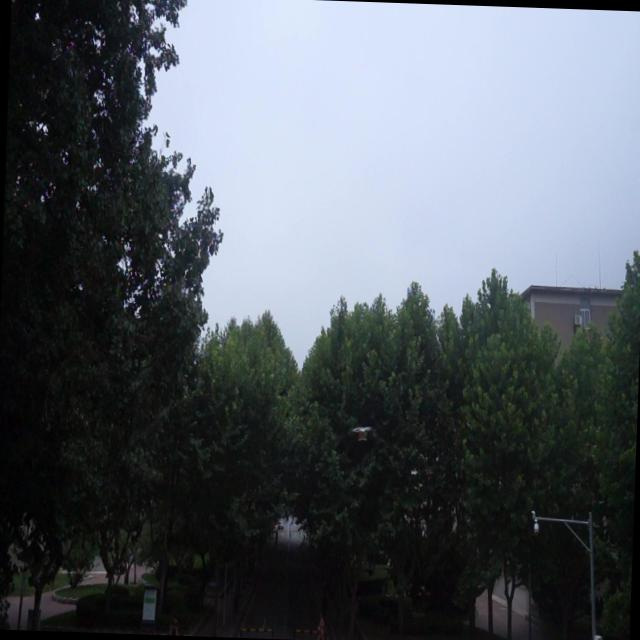drone: (348, 420, 378, 441)
